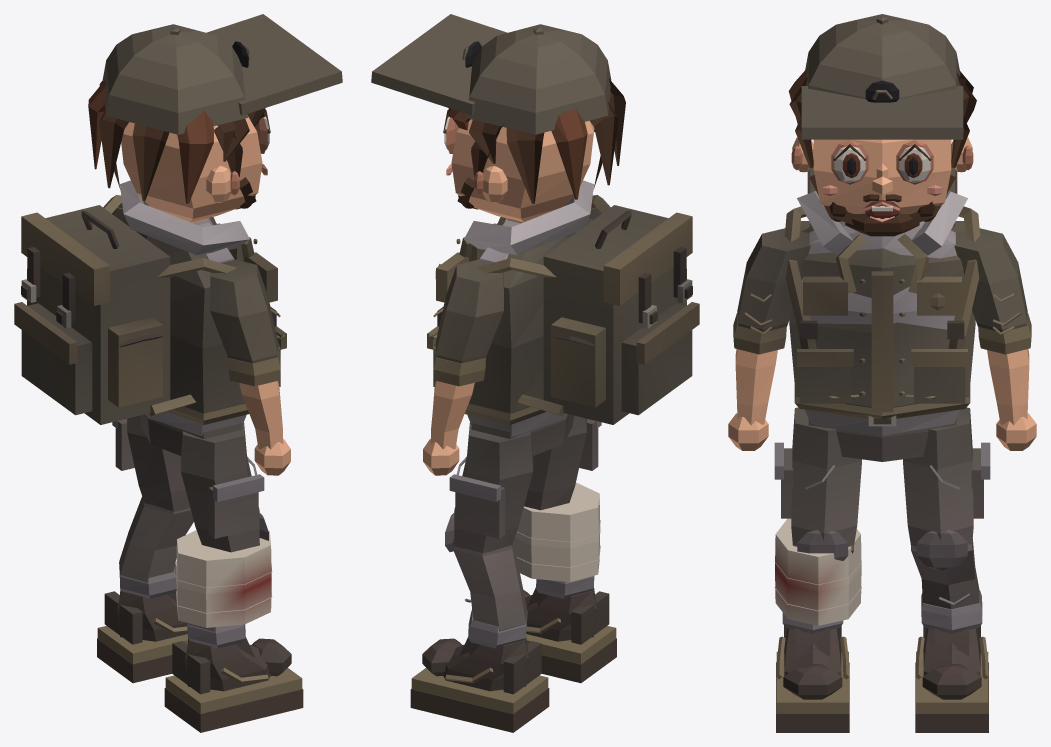
The model's file is npc.sam.aftermath.lod1.glb.
3 renders of one model, left to right at view 1: azimuth 30°, elevation 25°; view 2: azimuth 150°, elevation 25°; view 3: azimuth 270°, elevation 25°, orthographic. The views are drawn at different scales.
Visible parts, largest first — view 1: torso, head, footR, shinR, legR, footL, armR, shinL, legL, foreArmR, hip, handR; view 2: torso, head, footL, legL, shinR, footR, shinL, armL, legR, foreArmL, hip, handL; view 3: torso, head, legR, legL, shinR, footL, footR, shinL, armR, armL, foreArmR, foreArmL (+3 smaller).
Boxes of the visible parts, x1,y1,x2,y2 form: torso: (14,180,286,436); head: (88,14,342,223); footR: (164,637,303,732); shinR: (175,512,272,648); legR: (180,422,264,552); footL: (97,589,187,683); armR: (210,259,284,363); shinL: (119,496,193,598); legL: (112,415,190,511); foreArmR: (228,345,283,449); hip: (140,414,242,455); handR: (254,438,290,475); torso: (427,180,699,436); head: (371,14,625,223); footL: (410,636,549,732); legL: (449,422,533,552); shinR: (513,482,600,598); footR: (523,587,616,683); shinL: (445,512,527,648); armL: (429,259,503,363); legR: (524,415,601,510); foreArmL: (430,345,485,449); hip: (471,414,573,455); handL: (423,438,459,475); torso: (784,167,980,435); head: (788,14,976,236); legR: (774,407,861,546); legL: (903,407,990,546); shinR: (774,518,861,633); footL: (915,626,988,732); footR: (776,626,849,732); shinL: (911,530,982,633); armR: (737,228,810,332); armL: (954,228,1027,332); foreArmR: (733,313,786,425); foreArmL: (978,313,1031,425).
Size of the model in its own units: 0.7476 by 1.8 by 0.7418.
